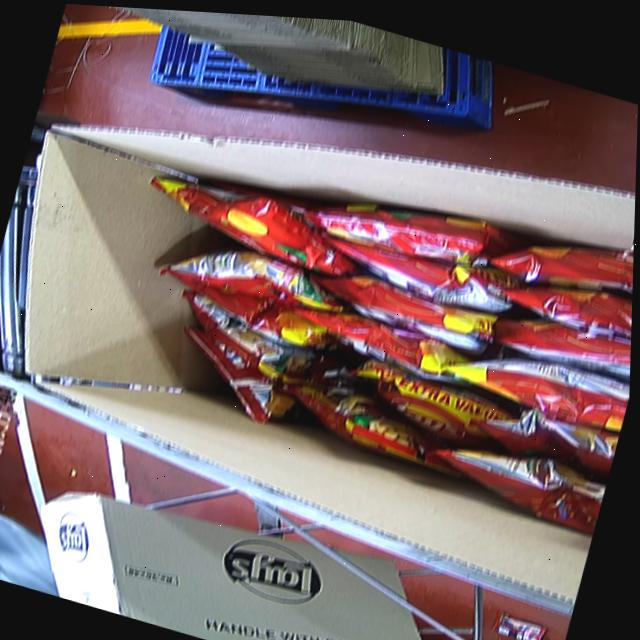MASALA: (92, 109, 637, 537)
